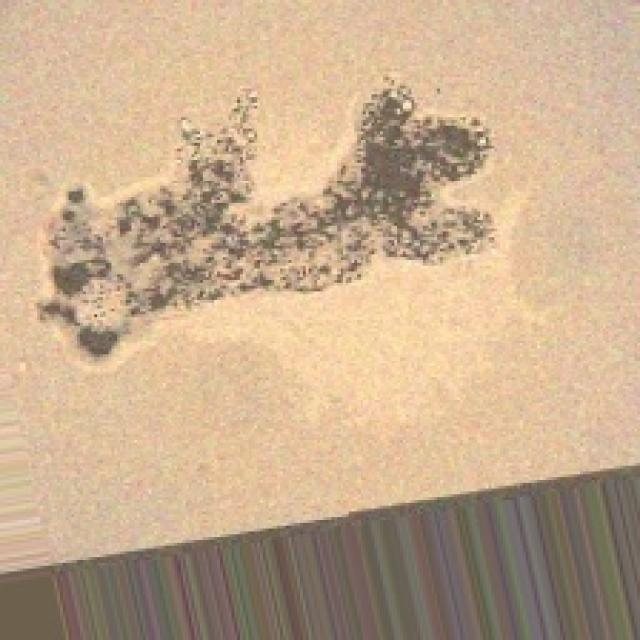Amoeba: (31, 74, 500, 366)
